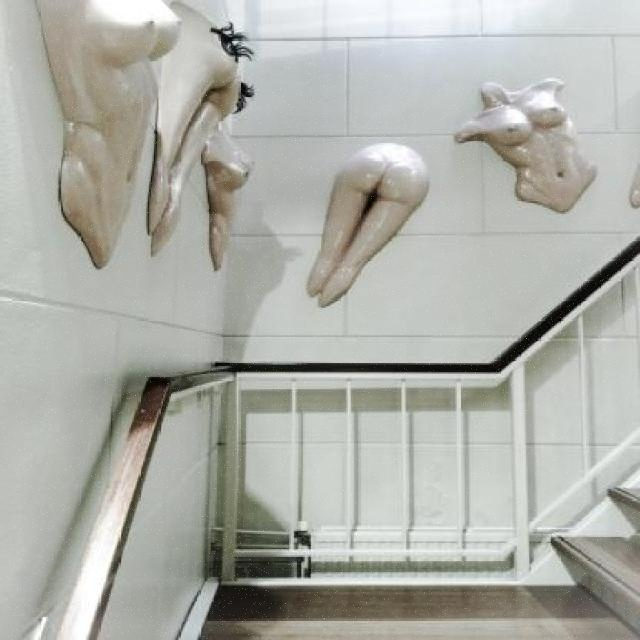stair: (549, 481, 640, 637)
